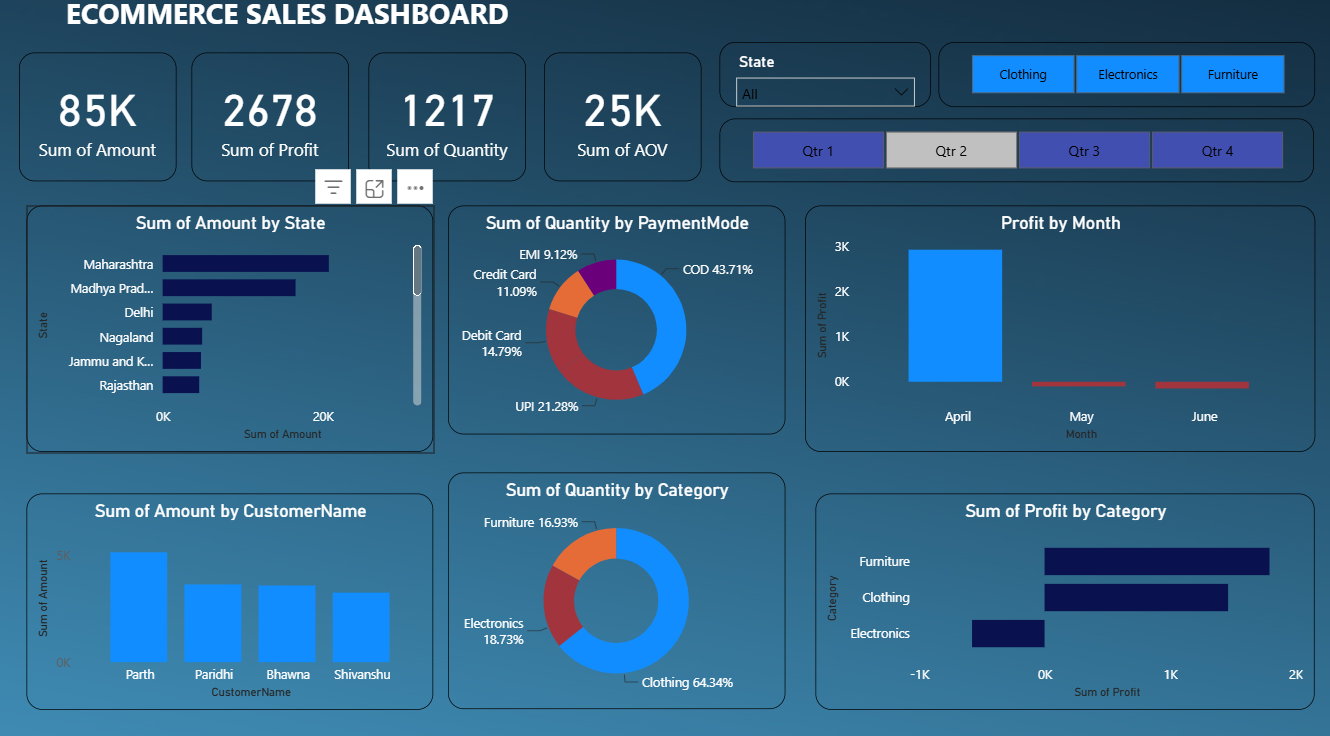

Layout of this report page (visuals, bound fields, positions):
{"tool":"powerbi","page":{"name":"Page 1","canvas":[1280,720],"ordinal":0},"visuals":[{"type":"textbox","box":[9.4,0,536.7,62.4],"z":0},{"type":"lineStackedColumnComboChart","title":"Profit by Month","fields":{"Category":["Orders.Order Date.Variation.Date Hierarchy.Month"],"Y":["Sum(Details.Profit)"]},"box":[770.7,207.4,486.1,234.7],"z":1000},{"type":"barChart","fields":{"Category":["Details.Category"],"Y":["Sum(Details.Profit)"]},"box":[781.3,481.5,475.5,205.9],"z":2000},{"type":"donutChart","fields":{"Category":["Details.Category"],"Y":["Sum(Details.Quantity)"]},"box":[431.5,461.8,321,225.6],"z":3000},{"type":"donutChart","fields":{"Y":["Sum(Details.Quantity)"],"Category":["Details.PaymentMode"]},"box":[431.5,207.4,321,218],"z":4000},{"type":"card","fields":{"Values":["Sum(Details.Amount)"]},"box":[22.7,62.1,149.9,122.7],"z":5000},{"type":"card","fields":{"Values":["Sum(Details.Quantity)"]},"box":[355.8,62.1,149.9,122.7],"z":6000},{"type":"card","fields":{"Values":["Sum(Details.Profit)"]},"box":[187.8,62.1,149.9,122.7],"z":7000},{"type":"card","fields":{"Values":["Sum(Details.AOV)"]},"box":[522.4,62.1,149.9,122.7],"z":8000},{"type":"barChart","fields":{"Category":["Orders.State"],"Y":["Sum(Details.Amount)"]},"box":[30.3,207.4,387.6,234.7],"z":9000},{"type":"columnChart","fields":{"Category":["Orders.CustomerName"],"Y":["Sum(Details.Amount)"]},"box":[30.3,481.5,387.6,205.9],"z":10000},{"type":"slicer","fields":{"Values":["Orders.Order Date.Variation.Date Hierarchy.Quarter"]},"box":[690.5,124.2,566.3,60.6],"z":11000},{"type":"slicer","fields":{"Values":["Orders.State"]},"box":[690.5,51.5,201.4,62.1],"z":12000},{"type":"slicer","fields":{"Values":["Details.Category"]},"box":[897.9,51.5,358.9,62.1],"z":13000}]}

Visuals, with their boxes in screenshot pixels (x1, y1, x2, y2), scaled from the page's 1280x720 canvas onto the 1330x736 screenshot:
textbox: bbox=[10, 0, 567, 64]
"Profit by Month" lineStackedColumnComboChart: bbox=[801, 212, 1306, 452]
barChart - Details.Category x Sum(Details.Profit): bbox=[812, 492, 1306, 703]
donutChart - Details.Category x Sum(Details.Quantity): bbox=[448, 472, 782, 703]
donutChart - Sum(Details.Quantity) x Details.PaymentMode: bbox=[448, 212, 782, 435]
card - Sum(Details.Amount): bbox=[24, 63, 179, 189]
card - Sum(Details.Quantity): bbox=[370, 63, 525, 189]
card - Sum(Details.Profit): bbox=[195, 63, 351, 189]
card - Sum(Details.AOV): bbox=[543, 63, 699, 189]
barChart - Orders.State x Sum(Details.Amount): bbox=[31, 212, 434, 452]
columnChart - Orders.CustomerName x Sum(Details.Amount): bbox=[31, 492, 434, 703]
slicer - Orders.Order Date.Variation.Date Hierarchy.Quarter: bbox=[717, 127, 1306, 189]
slicer - Orders.State: bbox=[717, 53, 927, 116]
slicer - Details.Category: bbox=[933, 53, 1306, 116]
